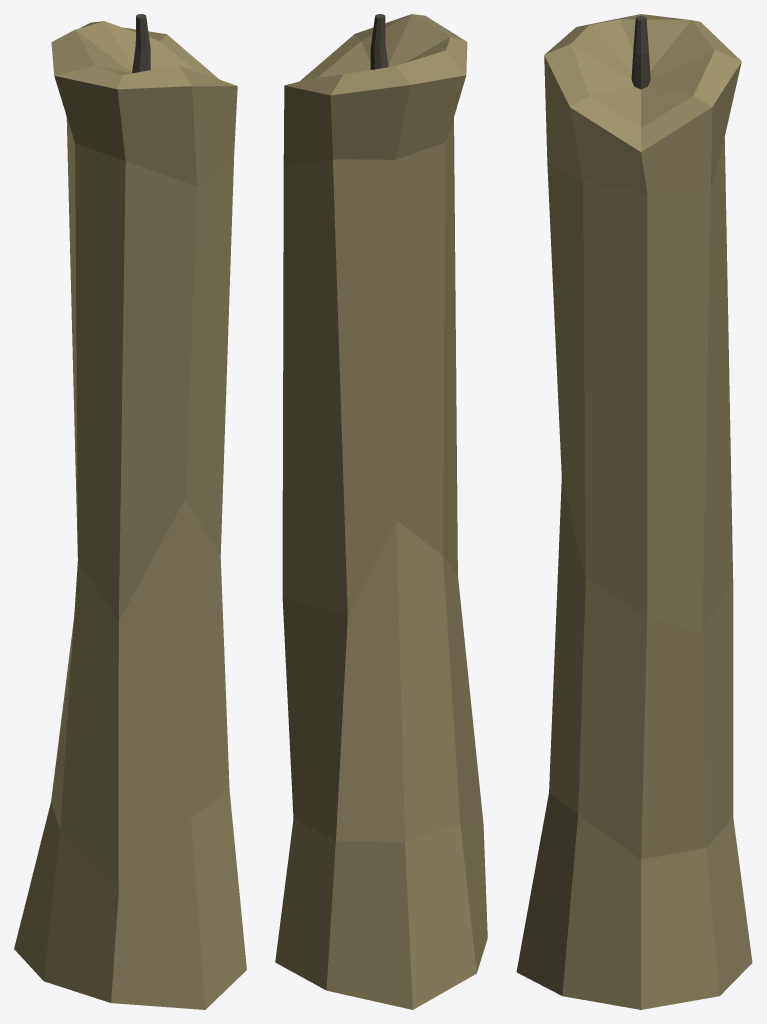
Rendered from Candle_1.fbx.
3 renders of one model, left to right at view 1: azimuth 30°, elevation 25°; view 2: azimuth 150°, elevation 25°; view 3: azimuth 270°, elevation 25°, orthographic.
Parts seen in each view (by area): view 1: Candle_1; view 2: Candle_1; view 3: Candle_1.
Part boxes in pixels (x1=…): Candle_1: x1=14, y1=14, x2=246, y2=1009; Candle_1: x1=275, y1=14, x2=487, y2=1009; Candle_1: x1=516, y1=14, x2=752, y2=1009.
Bounding box in the file's own units: 3.23 × 15.26 × 3.43.
